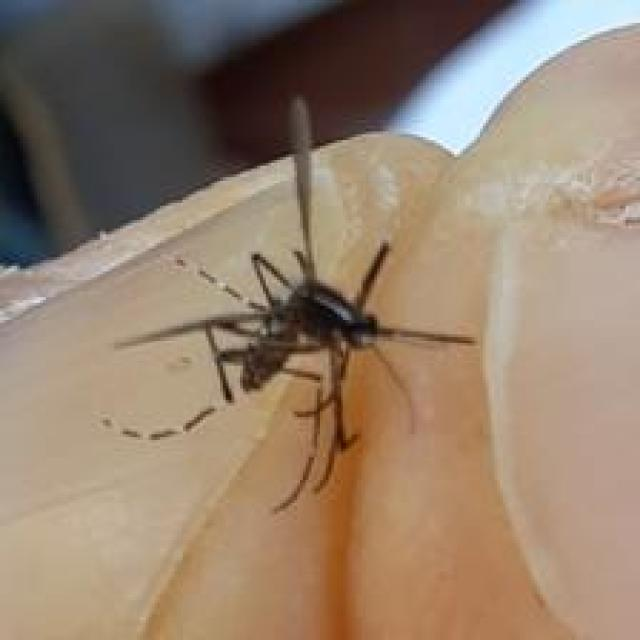Aedes albopictus: (113, 93, 478, 513)
